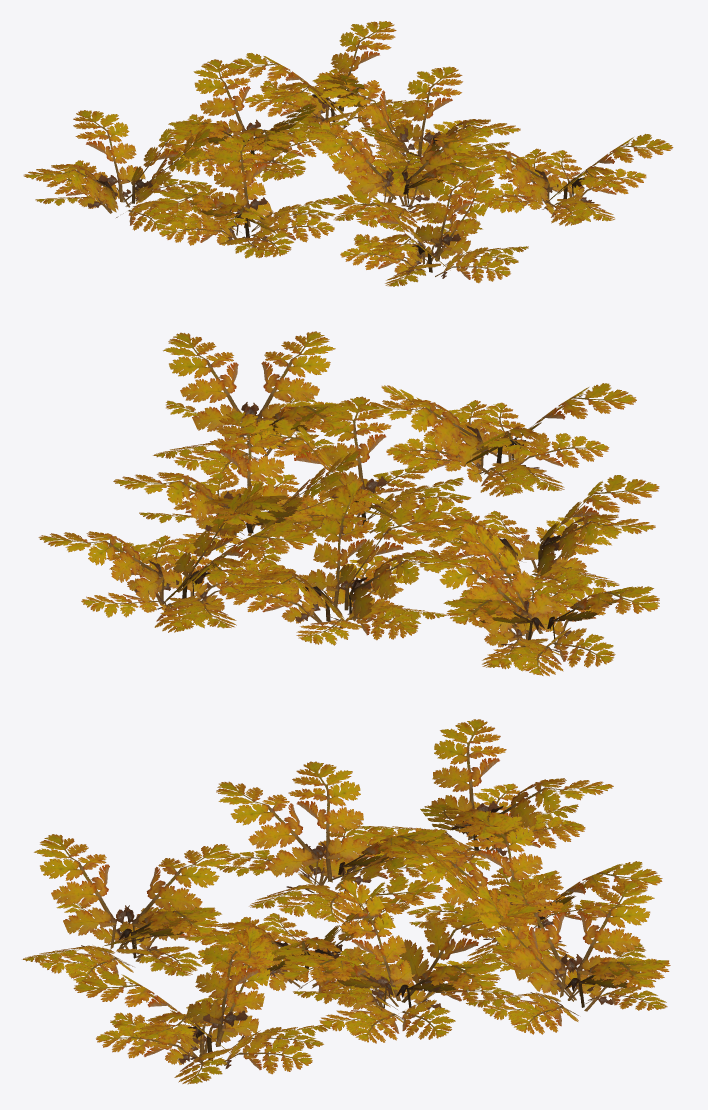
File: forest_Fern.fbx
The picture shows the model from 3 angles, top to bottom: view 1: azimuth 30°, elevation 25°; view 2: azimuth 150°, elevation 25°; view 3: azimuth 270°, elevation 25°; orthographic projection. The views are drawn at different scales.
Parts seen in each view (by area): view 1: StaticMeshActor_4_StaticMeshComponent0; view 2: StaticMeshActor_4_StaticMeshComponent0; view 3: StaticMeshActor_4_StaticMeshComponent0.
Part boxes in pixels (x1,y1,x2,y2): StaticMeshActor_4_StaticMeshComponent0: (23,21,673,286); StaticMeshActor_4_StaticMeshComponent0: (38,331,659,676); StaticMeshActor_4_StaticMeshComponent0: (22,719,670,1084).
Bounding box in the file's own units: 5.48 × 0.9016 × 4.54.
